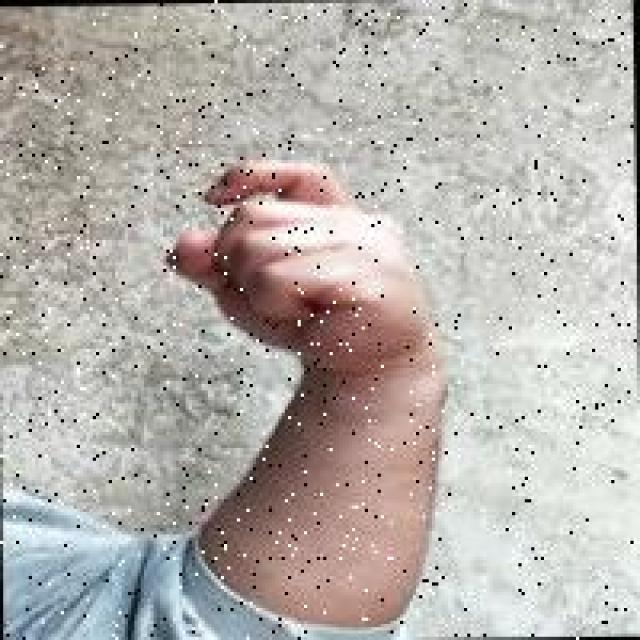X: (158, 152, 434, 395)
